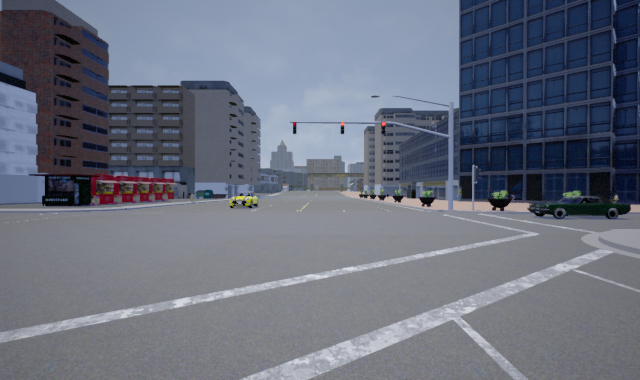traffic_light: (381, 120, 387, 135), (340, 121, 345, 135), (293, 121, 297, 135)
vehicle: (525, 195, 632, 219), (229, 192, 258, 209)
